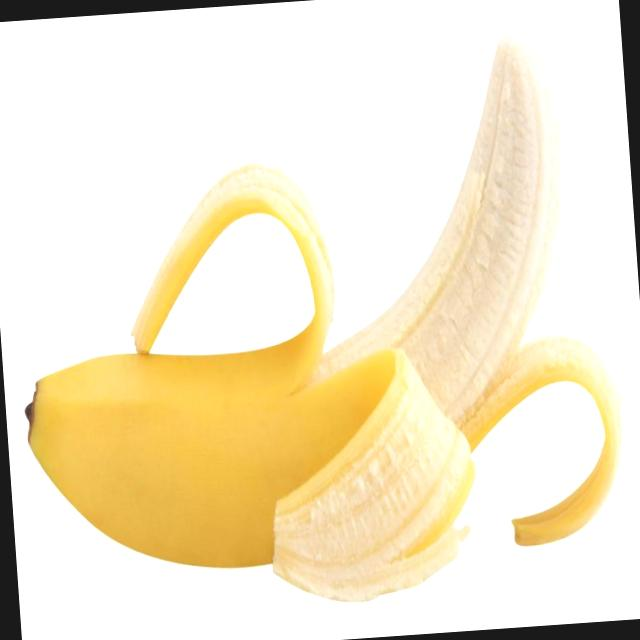banana: (0, 24, 603, 587)
